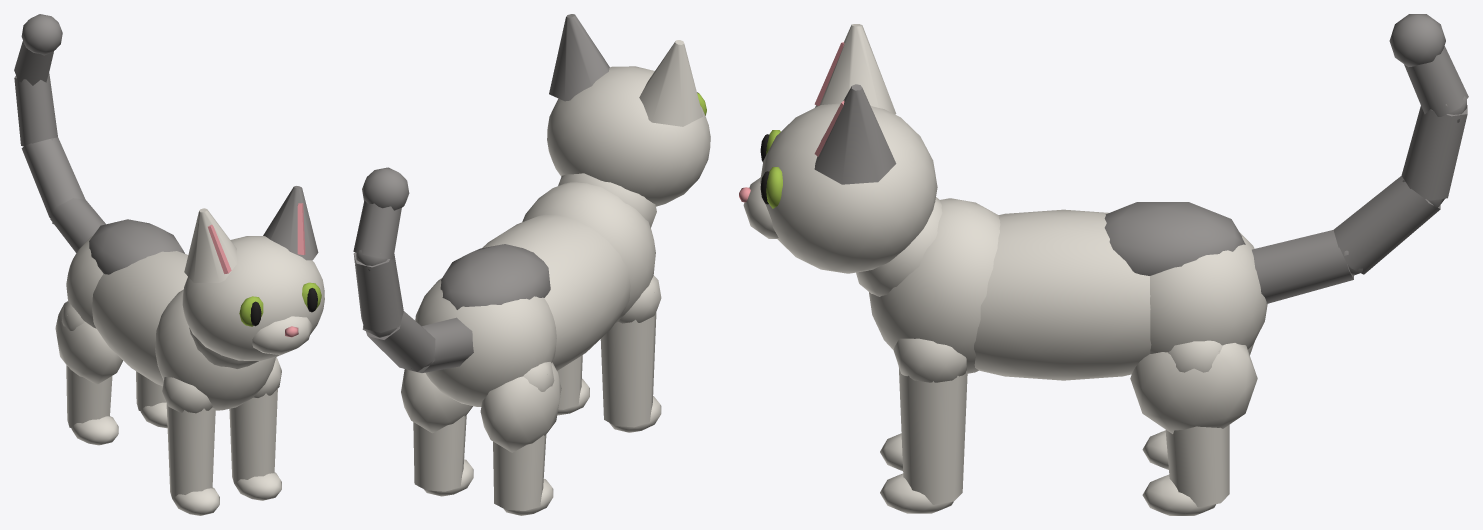
Rendered from pet_cat_white.glb.
3 views of the same model, side by side, from view 1: azimuth 30°, elevation 25°; view 2: azimuth 150°, elevation 25°; view 3: azimuth 270°, elevation 25° (orthographic). The views are drawn at different scales.
Visible parts, largest first — view 1: head, body, tail, leg_br, leg_fr, leg_fl, leg_bl; view 2: body, head, tail, leg_br, leg_fr, leg_bl, leg_fl; view 3: body, head, tail, leg_bl, leg_fl.
Boxes of the visible parts, x1,y1,x2,y2 form: head: [182, 186, 324, 368]; body: [66, 219, 275, 410]; tail: [14, 14, 105, 252]; leg_br: [55, 301, 122, 445]; leg_fr: [162, 377, 219, 515]; leg_fl: [229, 357, 281, 500]; leg_bl: [136, 371, 167, 428]; body: [415, 182, 655, 406]; head: [547, 14, 710, 227]; tail: [353, 167, 473, 372]; leg_br: [480, 362, 561, 515]; leg_fr: [600, 275, 661, 432]; leg_bl: [401, 369, 473, 496]; leg_fl: [557, 355, 589, 415]; body: [869, 198, 1267, 380]; head: [739, 24, 942, 296]; tail: [1252, 14, 1468, 303]; leg_bl: [1130, 340, 1257, 515]; leg_fl: [880, 338, 967, 513].
Bounding box in the file's own units: 0.14 × 0.37 × 0.5151.
